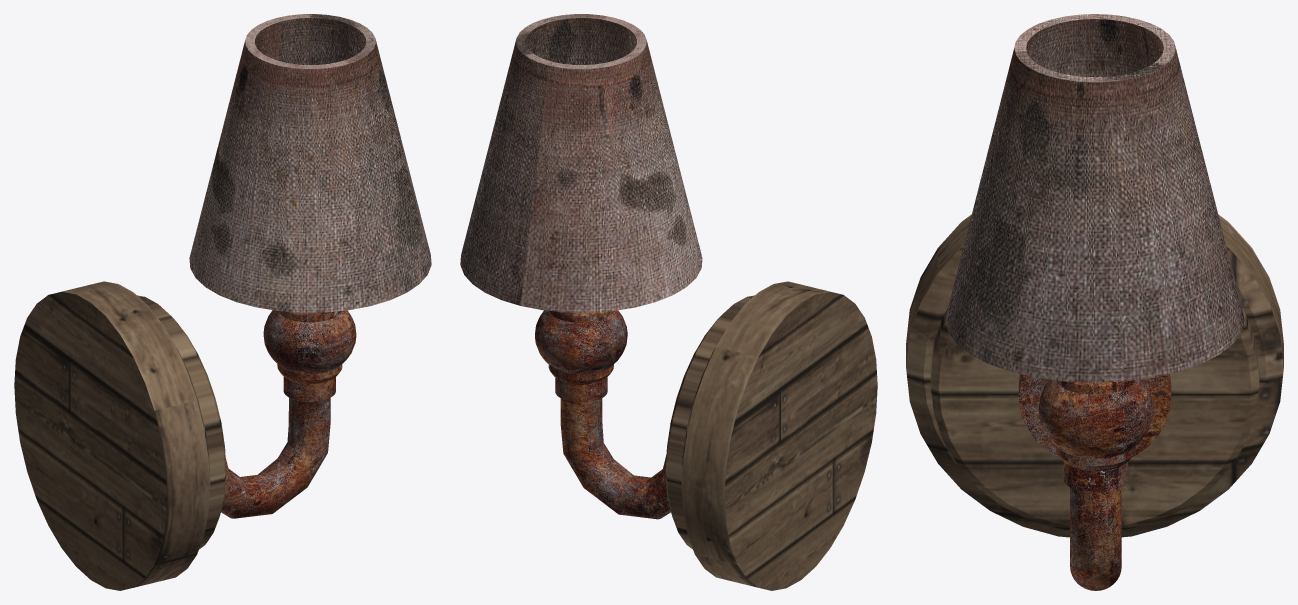
File: WallLamp.glb
3 views of the same model, side by side, from view 1: azimuth 30°, elevation 25°; view 2: azimuth 150°, elevation 25°; view 3: azimuth 270°, elevation 25° (orthographic). The views are drawn at different scales.
Parts seen in each view (by area): view 1: Wall lamp; view 2: Wall lamp; view 3: Wall lamp.
Boxes of the visible parts, x1=… form: Wall lamp: x1=14, y1=14, x2=431, y2=590; Wall lamp: x1=460, y1=14, x2=877, y2=590; Wall lamp: x1=906, y1=14, x2=1283, y2=590.
Size of the model in its own units: 2.19 by 3.12 by 1.79.
4 materials, 3 textured.
